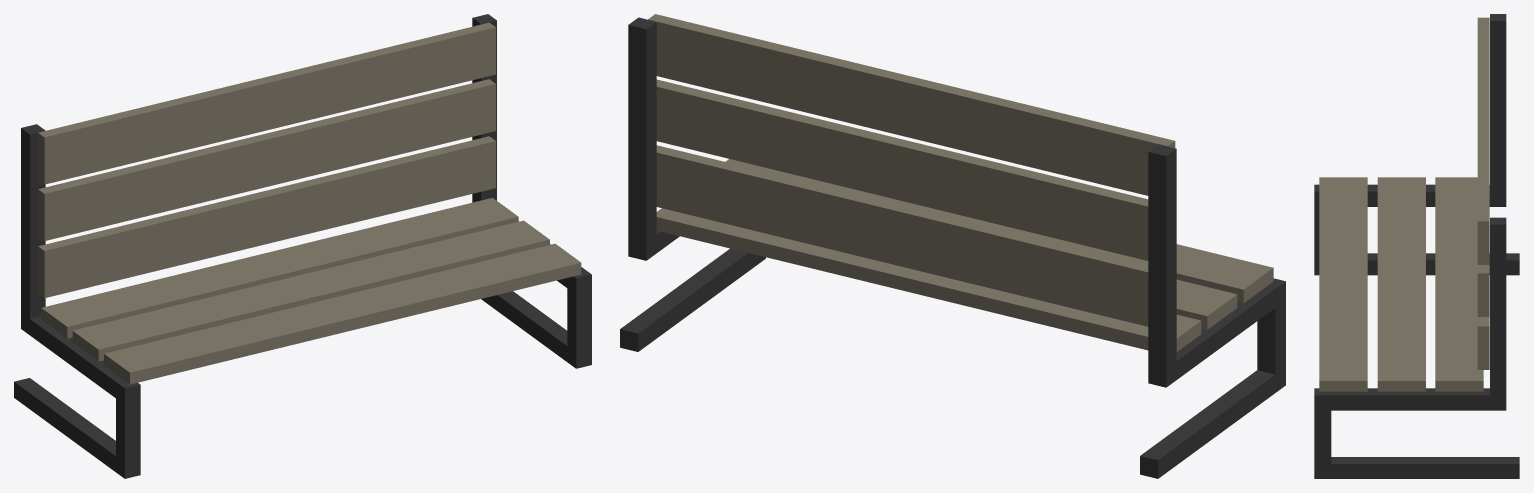
File: Bench.fbx
3 renders of one model, left to right at view 1: azimuth 30°, elevation 25°; view 2: azimuth 150°, elevation 25°; view 3: azimuth 270°, elevation 25°, orthographic. The views are drawn at different scales.
Parts seen in each view (by area): view 1: Bench; view 2: Bench; view 3: Bench.
Part boxes in pixels (x1=…): Bench: x1=14, y1=14, x2=591, y2=478; Bench: x1=620, y1=14, x2=1285, y2=478; Bench: x1=1314, y1=14, x2=1519, y2=478.
Bounding box in the file's own units: 2.07 × 1.16 × 0.8513.
